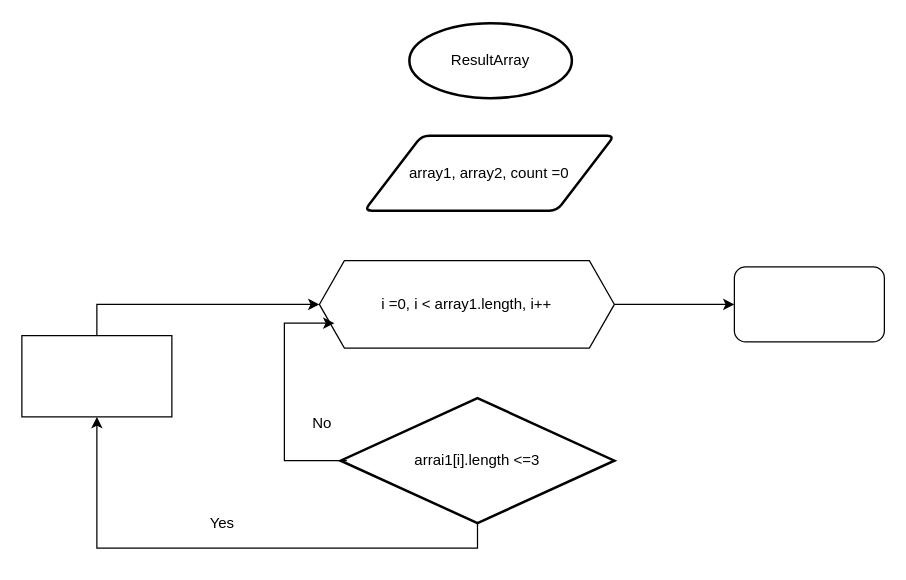
This 906x580 diagram has some shape labels left out. Each missing label, with the centre of its shape:
array2[count]=array1, count++: (x=96, y=375)
print array: (x=808, y=304)
